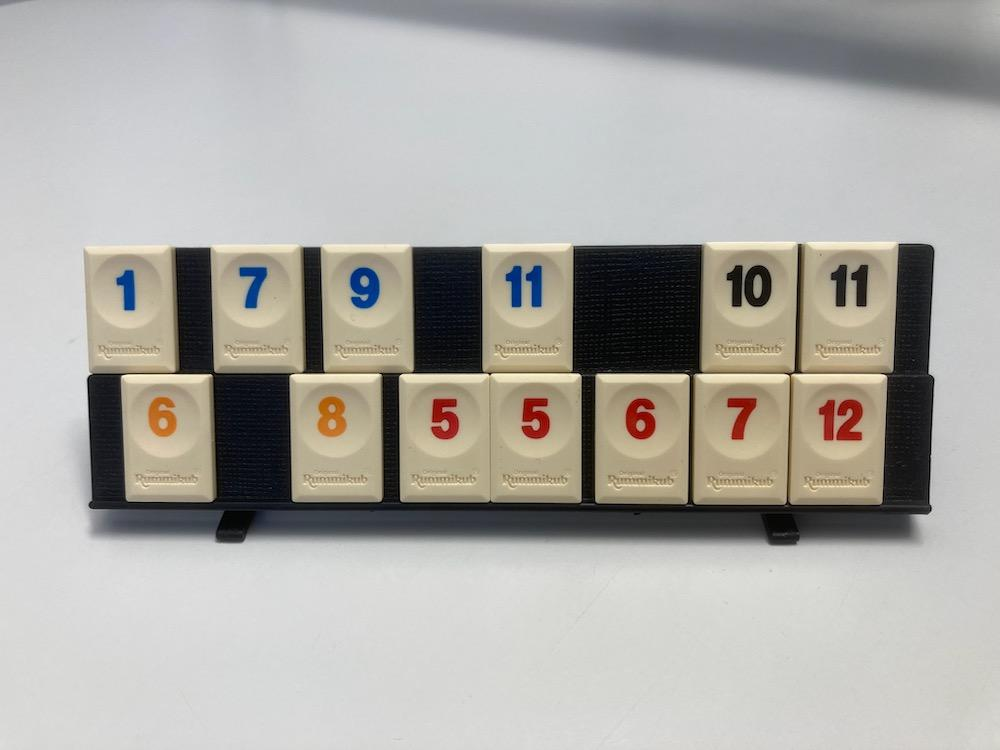black_10: (699, 242, 797, 373)
black_11: (797, 242, 898, 373)
blue_1: (85, 248, 177, 371)
blue_11: (482, 244, 572, 371)
blue_7: (211, 244, 303, 371)
blue_9: (320, 244, 412, 371)
orange_6: (122, 375, 217, 502)
orange_8: (289, 375, 381, 502)
red_12: (789, 376, 887, 504)
red_5: (490, 373, 582, 502), (400, 373, 490, 502)
red_6: (596, 376, 689, 504)
red_7: (693, 376, 789, 504)
